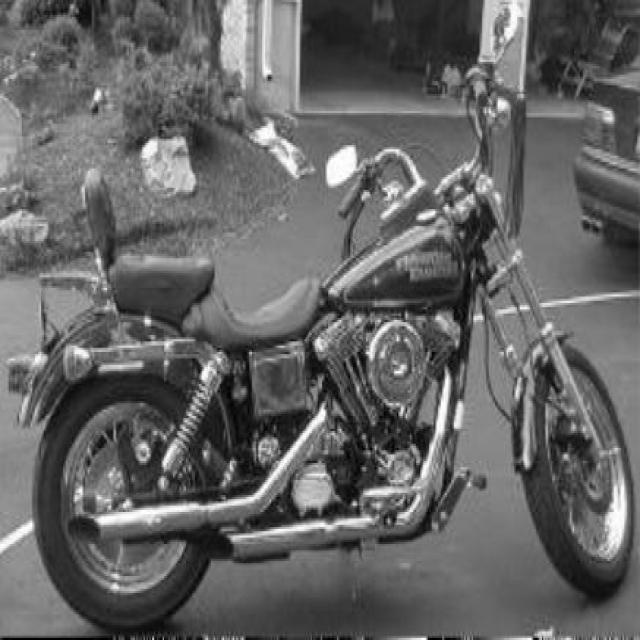Motorcycle: (7, 66, 636, 631)
